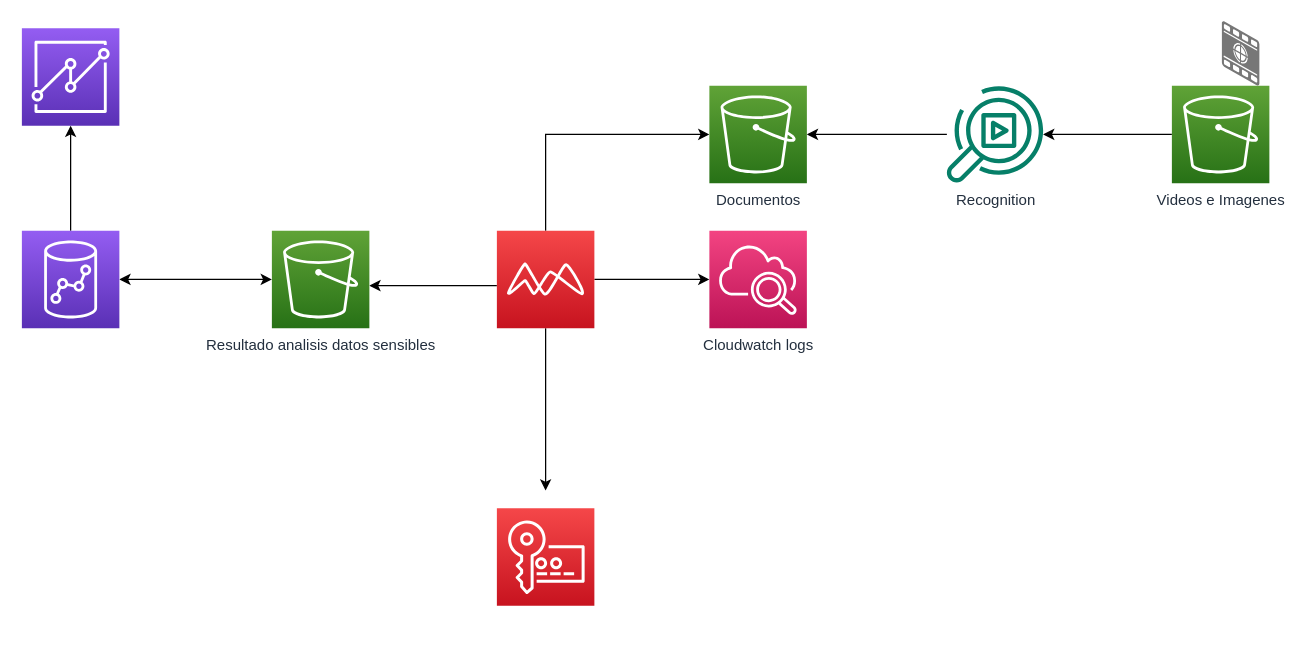
Image size: 1306x654. Some labels were removed from this diagram. Here are the shapes that lost their labels. From the top down, the centre of each, then its label:
(x=545, y=278): Macie
(x=545, y=556): KMS
